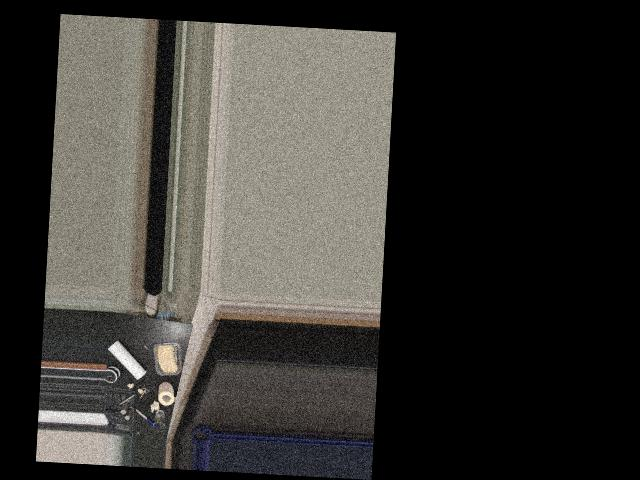cheese: (150, 337, 184, 377)
